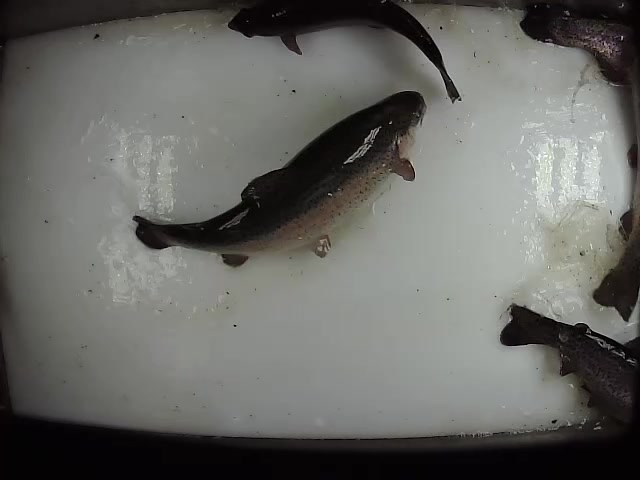fish: (132, 90, 426, 270), (225, 1, 463, 104), (498, 302, 640, 430)
